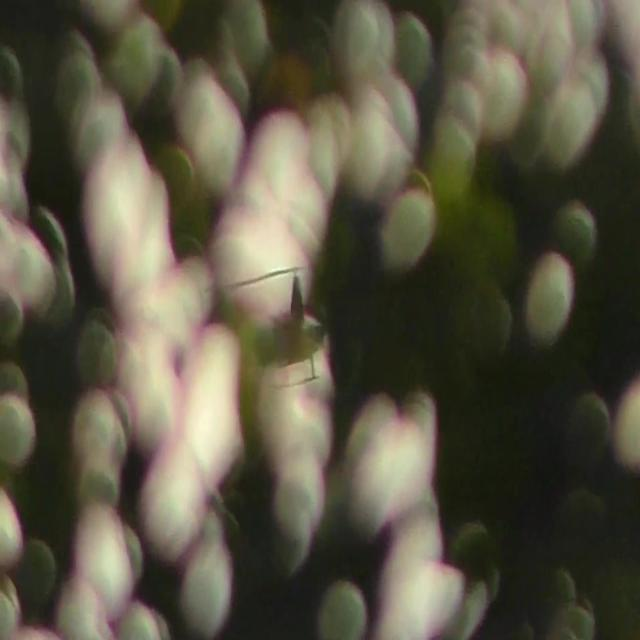CIV_HELO: (236, 272, 326, 391)
